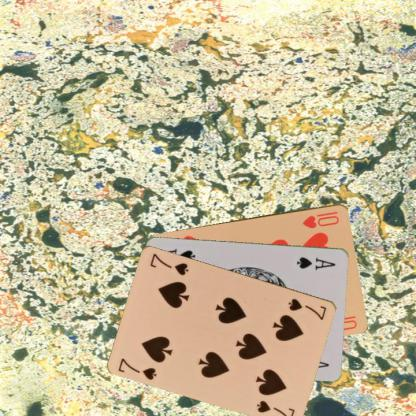10h: (300, 209, 341, 230)
7s: (286, 295, 328, 321), (116, 355, 158, 381)
As: (294, 254, 338, 270)
